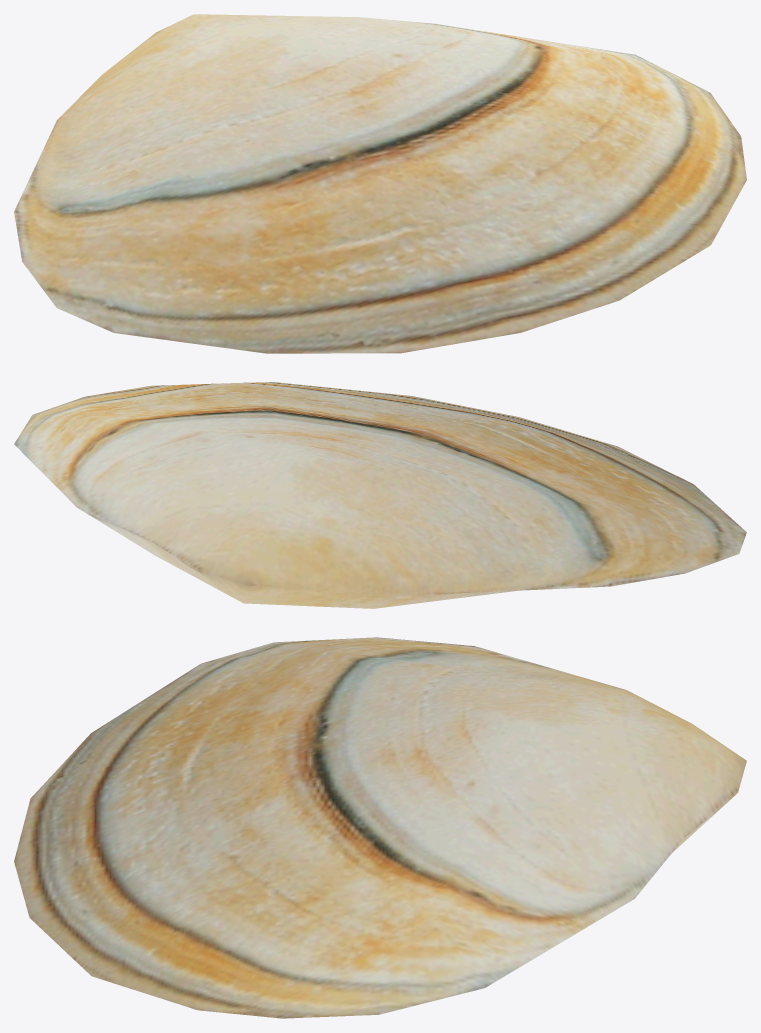
Rendered from SeaShell-02_LOD0_Small.glb.
3 views of the same model, one above another, from view 1: azimuth 30°, elevation 25°; view 2: azimuth 150°, elevation 25°; view 3: azimuth 270°, elevation 25° (orthographic). The views are drawn at different scales.
Parts seen in each view (by area): view 1: SeaShell-02_high; view 2: SeaShell-02_high; view 3: SeaShell-02_high.
Boxes of the visible parts, bbox=[...] form: SeaShell-02_high: bbox=[14, 14, 746, 353]; SeaShell-02_high: bbox=[14, 382, 746, 608]; SeaShell-02_high: bbox=[14, 637, 746, 1018].
Bounding box in the file's own units: 0.0229 × 0.00474 × 0.0185.
Materials: 1 (1 with a texture image).
